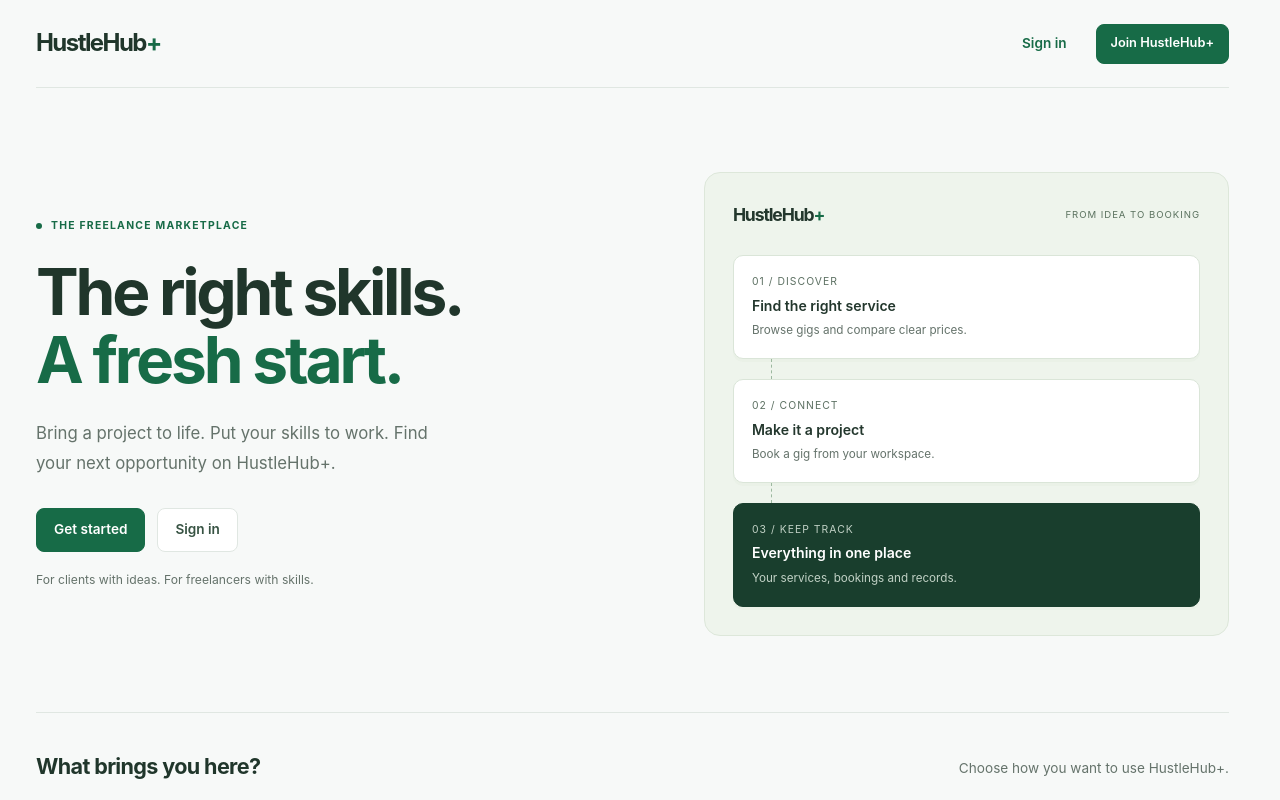
renders a public landing page and opens sign-in without fetching private data
Expected: the heading "The right skills.A fresh start." is shown, [36,253,462,398]
Expected: the header shows "HustleHub+", [1096,24,1229,64]
Click the 1st button "Sign in": click(1044, 44) [1005,22,1084,66]
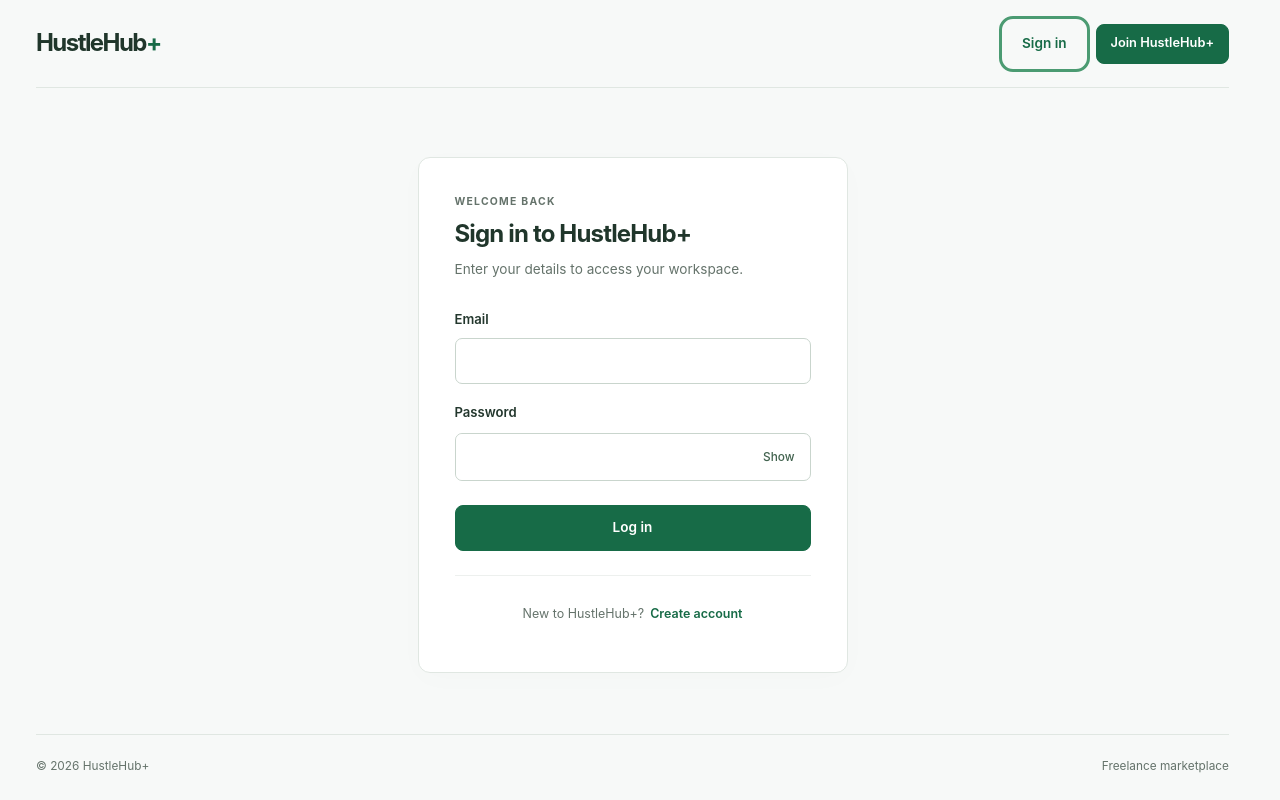
Now the heading "Sign in to HustleHub+" is shown, box [454,220,691,248]
